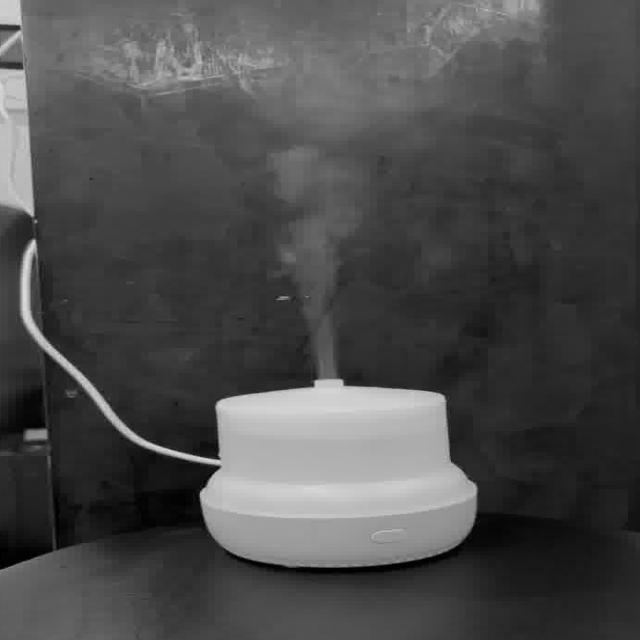fire: (248, 139, 375, 378)
